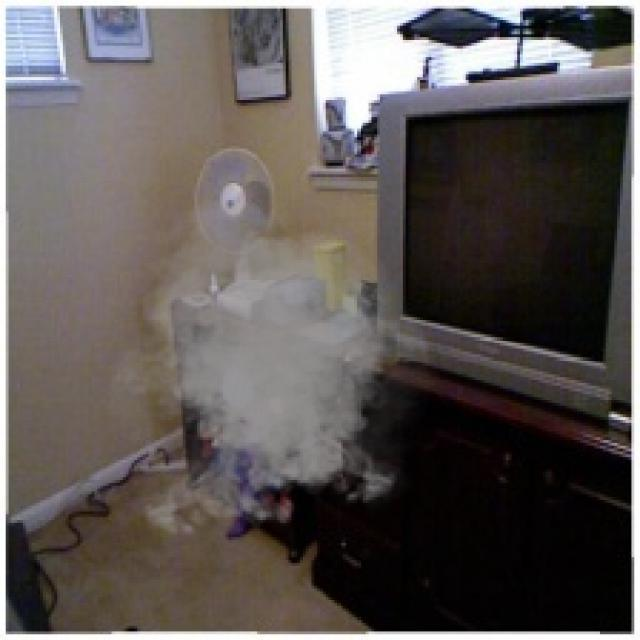Smoke: (91, 194, 448, 546)
